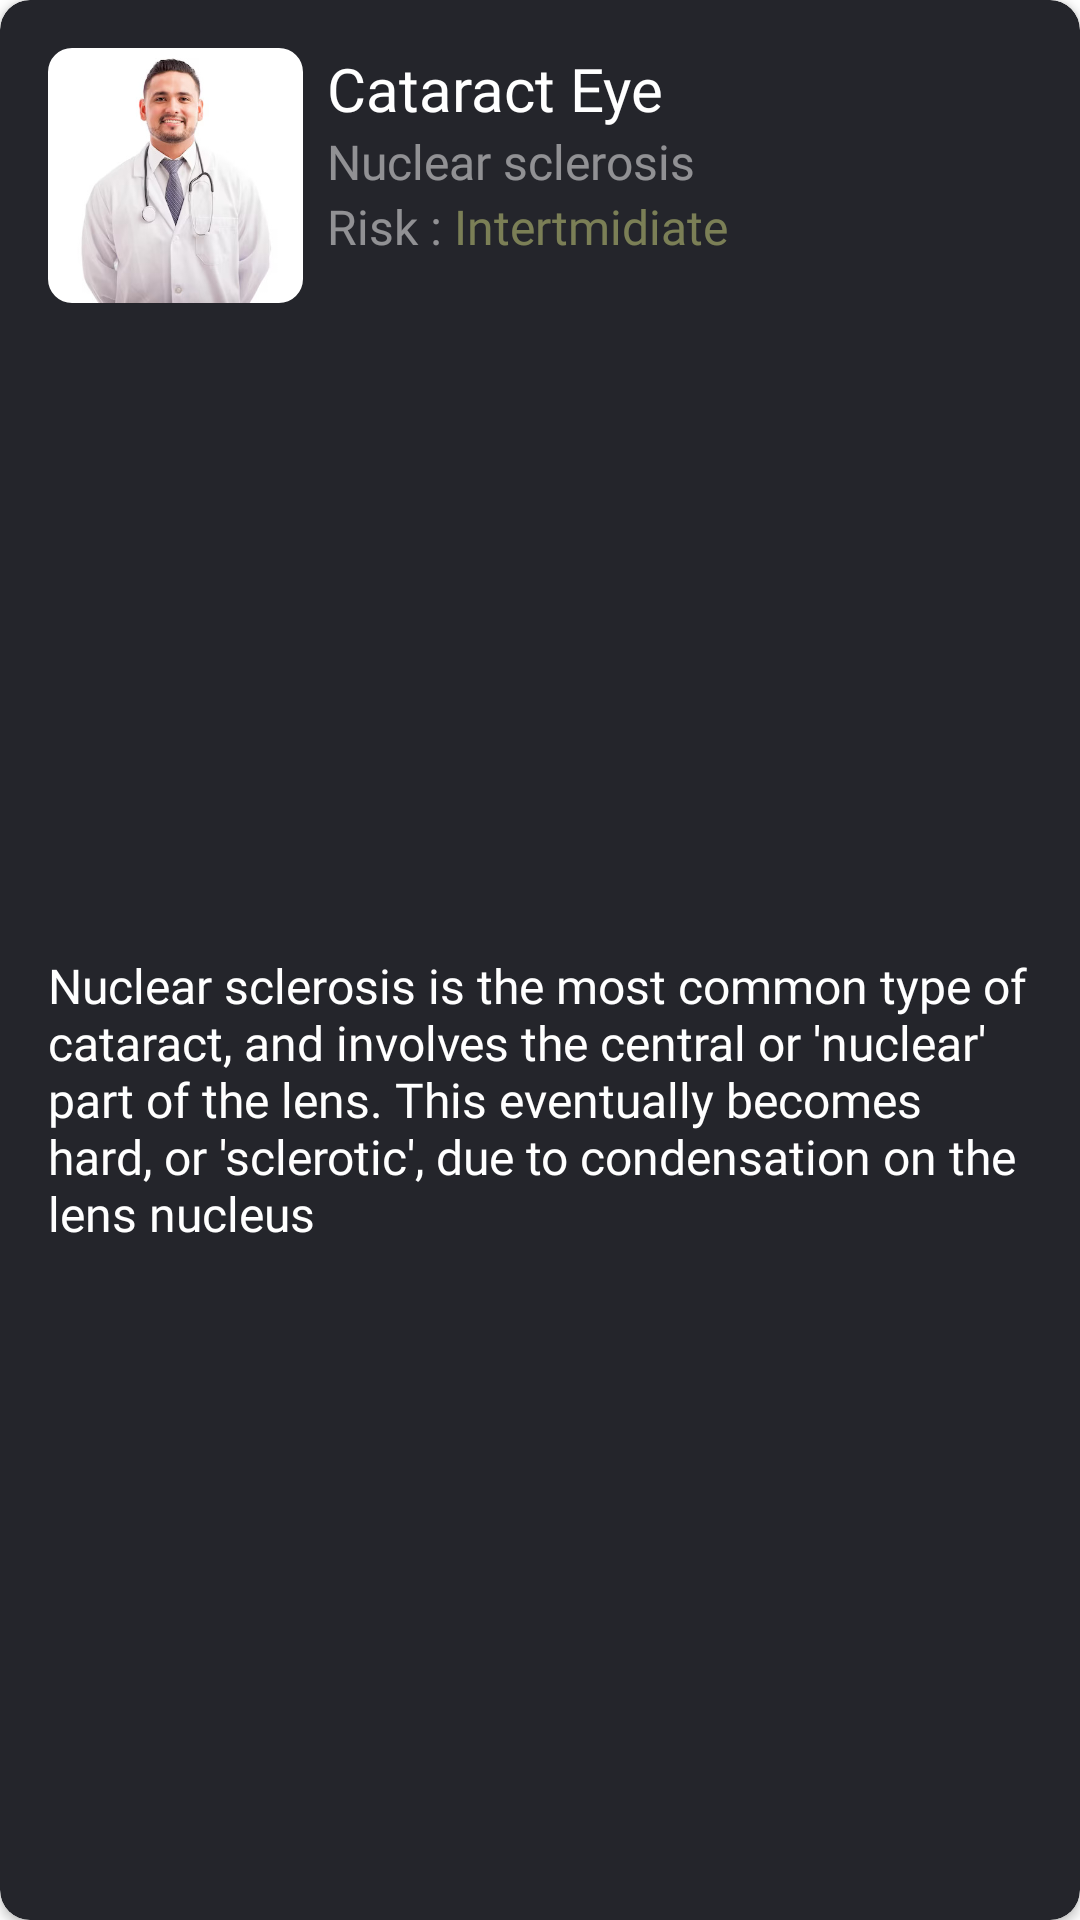

Screen size 1080px x 1920px. Icon name, then its box in pixels as (x1, y1, x2, y2):
doctorpic: (48, 48, 303, 303)
